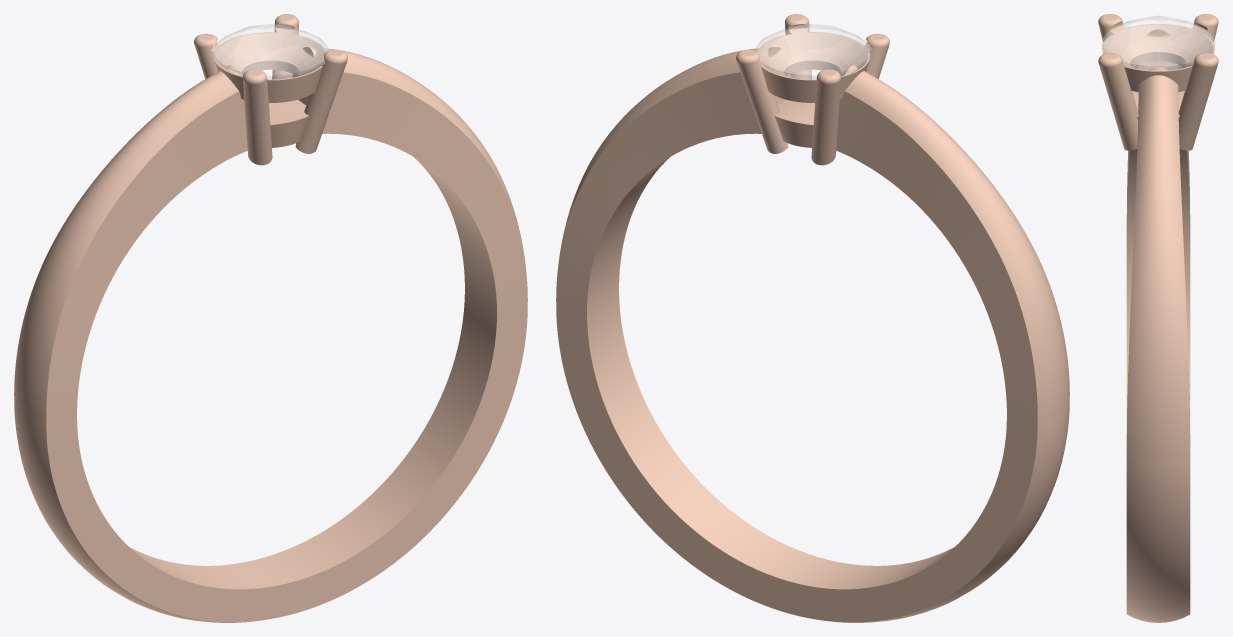
The model's file is clos-luce.glb.
3 views of the same model, side by side, from view 1: azimuth 30°, elevation 25°; view 2: azimuth 150°, elevation 25°; view 3: azimuth 270°, elevation 25° (orthographic).
Visible parts, largest first — view 1: Metal 01(27B2E974-22BB-40C7-AF28-F4958950B54D), Metal 01(324225EA-F525-4919-8AFA-7452026A93B6), Metal 01(2C191A9B-2E79-4188-B0E6-373A0C4F8AA5), Setting(3CD8DF48-9A07-4979-AD30-E3E15BD87520), Round(FDB578FC-9C1A-4D35-9C46-31184E5A55F5), Setting(9FDA0F4F-4731-4C16-BCCF-4146F77F7BAC), Setting(1B071DAA-FA3B-490C-A924-D180993B4DFF), Setting(C027A4FA-788B-4DF7-84F3-59F5C9B8DCE2), Setting(4DCD3F62-EA3C-4734-8A24-4619FACBA482); view 2: Metal 01(27B2E974-22BB-40C7-AF28-F4958950B54D), Metal 01(324225EA-F525-4919-8AFA-7452026A93B6), Metal 01(2C191A9B-2E79-4188-B0E6-373A0C4F8AA5), Setting(3CD8DF48-9A07-4979-AD30-E3E15BD87520), Round(FDB578FC-9C1A-4D35-9C46-31184E5A55F5), Setting(4DCD3F62-EA3C-4734-8A24-4619FACBA482), Setting(D0D99690-202B-4472-B54E-808E0DE35AA8), Setting(C027A4FA-788B-4DF7-84F3-59F5C9B8DCE2), Setting(9FDA0F4F-4731-4C16-BCCF-4146F77F7BAC); view 3: Metal 01(2C191A9B-2E79-4188-B0E6-373A0C4F8AA5), Metal 01(27B2E974-22BB-40C7-AF28-F4958950B54D), Round(FDB578FC-9C1A-4D35-9C46-31184E5A55F5), Setting(3CD8DF48-9A07-4979-AD30-E3E15BD87520), Setting(1B071DAA-FA3B-490C-A924-D180993B4DFF), Setting(D0D99690-202B-4472-B54E-808E0DE35AA8), Metal 01(324225EA-F525-4919-8AFA-7452026A93B6), Setting(4DCD3F62-EA3C-4734-8A24-4619FACBA482), Setting(9FDA0F4F-4731-4C16-BCCF-4146F77F7BAC), Setting(C027A4FA-788B-4DF7-84F3-59F5C9B8DCE2).
Boxes of the visible parts, x1,y1,x2,y2 form: Metal 01(27B2E974-22BB-40C7-AF28-F4958950B54D): (14, 289, 527, 622); Metal 01(324225EA-F525-4919-8AFA-7452026A93B6): (14, 65, 247, 422); Metal 01(2C191A9B-2E79-4188-B0E6-373A0C4F8AA5): (292, 47, 527, 312); Setting(3CD8DF48-9A07-4979-AD30-E3E15BD87520): (213, 32, 326, 102); Round(FDB578FC-9C1A-4D35-9C46-31184E5A55F5): (214, 24, 327, 79); Setting(9FDA0F4F-4731-4C16-BCCF-4146F77F7BAC): (243, 69, 272, 165); Setting(1B071DAA-FA3B-490C-A924-D180993B4DFF): (295, 49, 347, 153); Setting(C027A4FA-788B-4DF7-84F3-59F5C9B8DCE2): (269, 99, 308, 147); Setting(4DCD3F62-EA3C-4734-8A24-4619FACBA482): (194, 33, 219, 78); Metal 01(27B2E974-22BB-40C7-AF28-F4958950B54D): (556, 289, 1069, 622); Metal 01(324225EA-F525-4919-8AFA-7452026A93B6): (836, 65, 1069, 422); Metal 01(2C191A9B-2E79-4188-B0E6-373A0C4F8AA5): (556, 47, 791, 312); Setting(3CD8DF48-9A07-4979-AD30-E3E15BD87520): (757, 32, 870, 102); Round(FDB578FC-9C1A-4D35-9C46-31184E5A55F5): (756, 24, 869, 79); Setting(4DCD3F62-EA3C-4734-8A24-4619FACBA482): (811, 69, 840, 165); Setting(D0D99690-202B-4472-B54E-808E0DE35AA8): (736, 49, 788, 153); Setting(C027A4FA-788B-4DF7-84F3-59F5C9B8DCE2): (775, 99, 814, 147); Setting(9FDA0F4F-4731-4C16-BCCF-4146F77F7BAC): (864, 33, 889, 78); Metal 01(2C191A9B-2E79-4188-B0E6-373A0C4F8AA5): (1126, 67, 1190, 459); Metal 01(27B2E974-22BB-40C7-AF28-F4958950B54D): (1126, 238, 1190, 622); Round(FDB578FC-9C1A-4D35-9C46-31184E5A55F5): (1102, 15, 1214, 70); Setting(3CD8DF48-9A07-4979-AD30-E3E15BD87520): (1102, 24, 1214, 91); Setting(1B071DAA-FA3B-490C-A924-D180993B4DFF): (1098, 53, 1138, 150); Setting(D0D99690-202B-4472-B54E-808E0DE35AA8): (1178, 53, 1218, 150); Metal 01(324225EA-F525-4919-8AFA-7452026A93B6): (1126, 29, 1190, 238); Setting(4DCD3F62-EA3C-4734-8A24-4619FACBA482): (1183, 14, 1218, 67); Setting(9FDA0F4F-4731-4C16-BCCF-4146F77F7BAC): (1098, 14, 1133, 67); Setting(C027A4FA-788B-4DF7-84F3-59F5C9B8DCE2): (1132, 91, 1184, 119).
Bounding box in the file's own units: 0.02 × 0.0221 × 0.00424.
